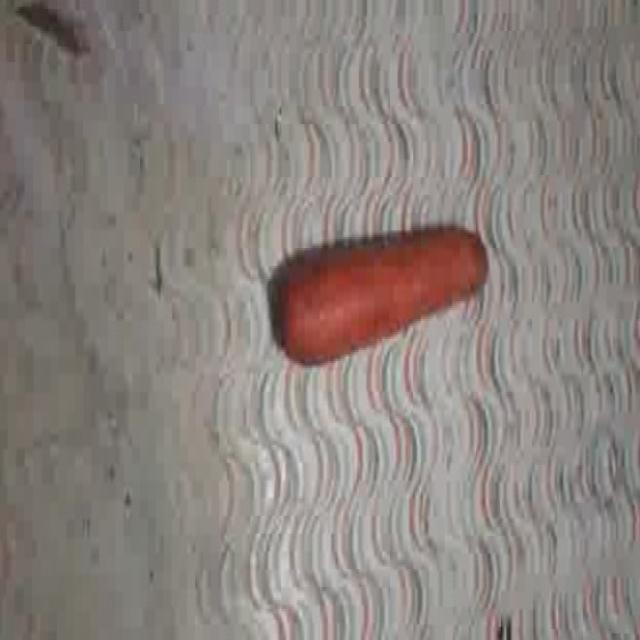carrot: (269, 227, 488, 363)
